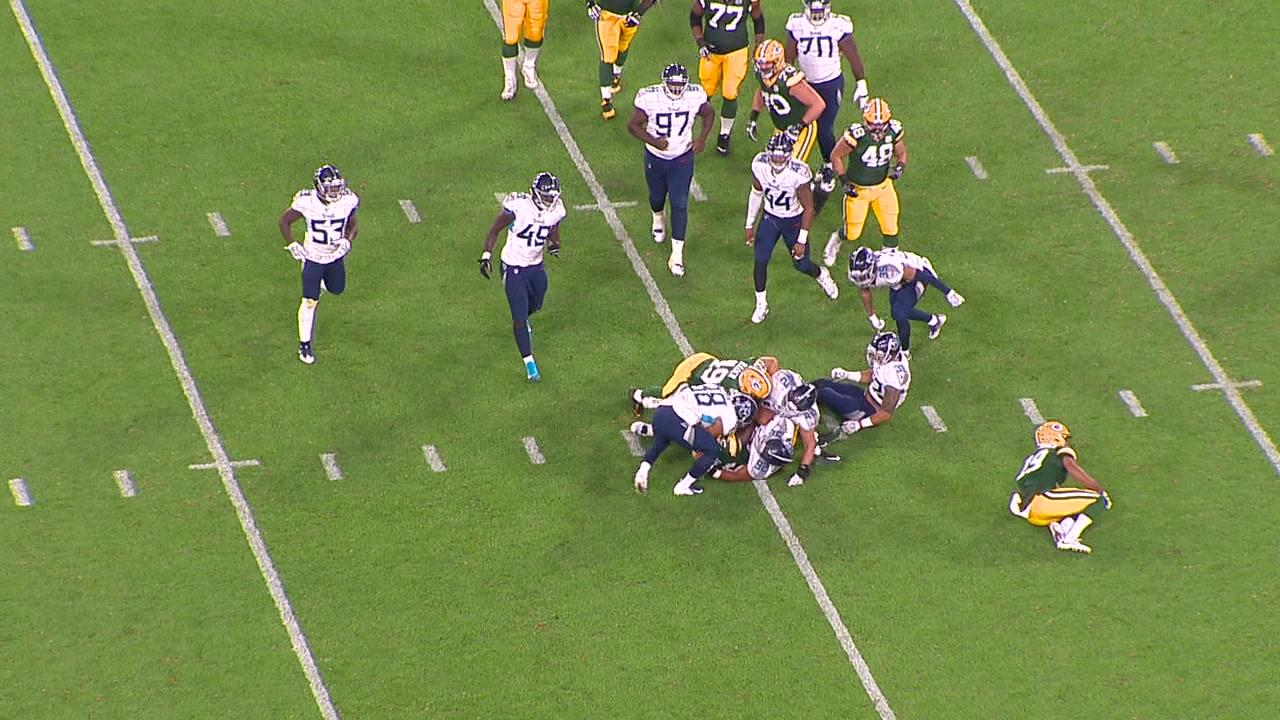five_hash: (1189, 380, 1261, 393), (189, 458, 259, 471), (91, 234, 160, 247), (1045, 163, 1108, 176), (572, 200, 638, 210)
hash: (1116, 388, 1150, 417), (917, 405, 949, 432), (9, 225, 38, 254), (1246, 130, 1276, 157), (1020, 399, 1048, 427), (421, 444, 447, 472), (203, 212, 233, 236), (319, 453, 345, 480), (621, 430, 646, 458), (520, 436, 545, 463), (398, 199, 423, 224), (964, 156, 989, 179), (114, 470, 135, 497), (8, 478, 28, 506), (1153, 142, 1179, 163)
